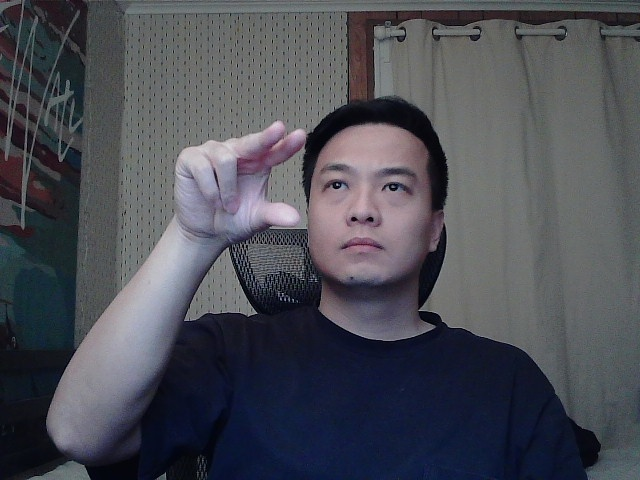No: (163, 111, 316, 253)
